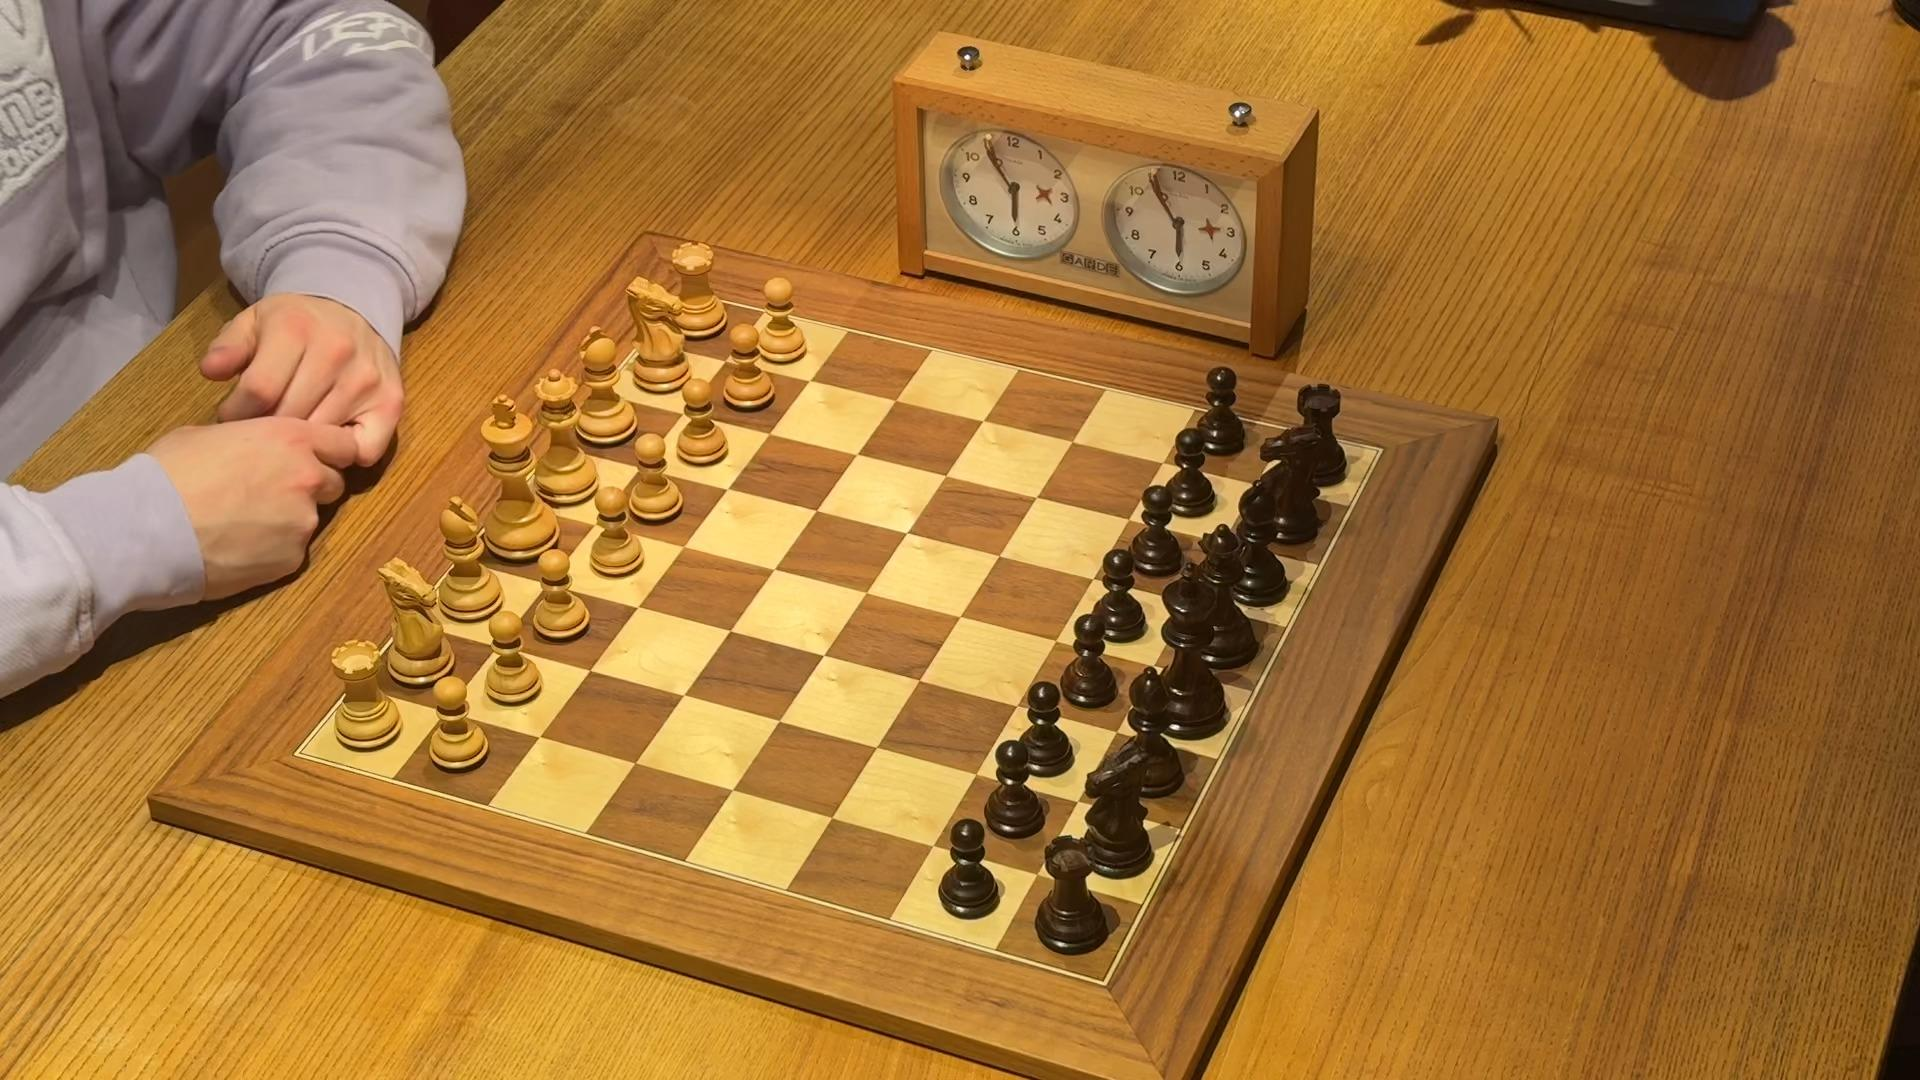Black Bishop: (1112, 665, 1188, 804), (1216, 475, 1294, 611)
Black King: (1145, 558, 1232, 744)
Black Knight: (1077, 731, 1158, 884), (1250, 411, 1325, 547)
Black Pawn: (928, 814, 1006, 924), (1010, 675, 1077, 782), (981, 735, 1048, 840), (1054, 611, 1122, 711), (1087, 543, 1153, 646), (1155, 425, 1222, 524), (1124, 484, 1189, 582), (1193, 363, 1250, 460)
Black Queen: (1188, 520, 1265, 674)
Black Rook: (1027, 832, 1114, 964), (1286, 378, 1352, 491)
White Bishop: (426, 491, 508, 628), (568, 320, 642, 452)
White King: (475, 392, 566, 570)
White Knight: (367, 553, 460, 694), (615, 272, 695, 398)
White Pawn: (421, 671, 495, 777), (475, 607, 549, 711), (529, 547, 593, 651), (584, 483, 650, 583), (671, 371, 735, 475), (625, 431, 687, 527), (719, 320, 779, 414), (753, 274, 812, 367)
White Queen: (531, 367, 604, 512)
White Rook: (320, 626, 406, 758), (665, 237, 732, 344)
